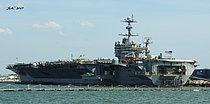MIL_Ship: (4, 12, 199, 87)
